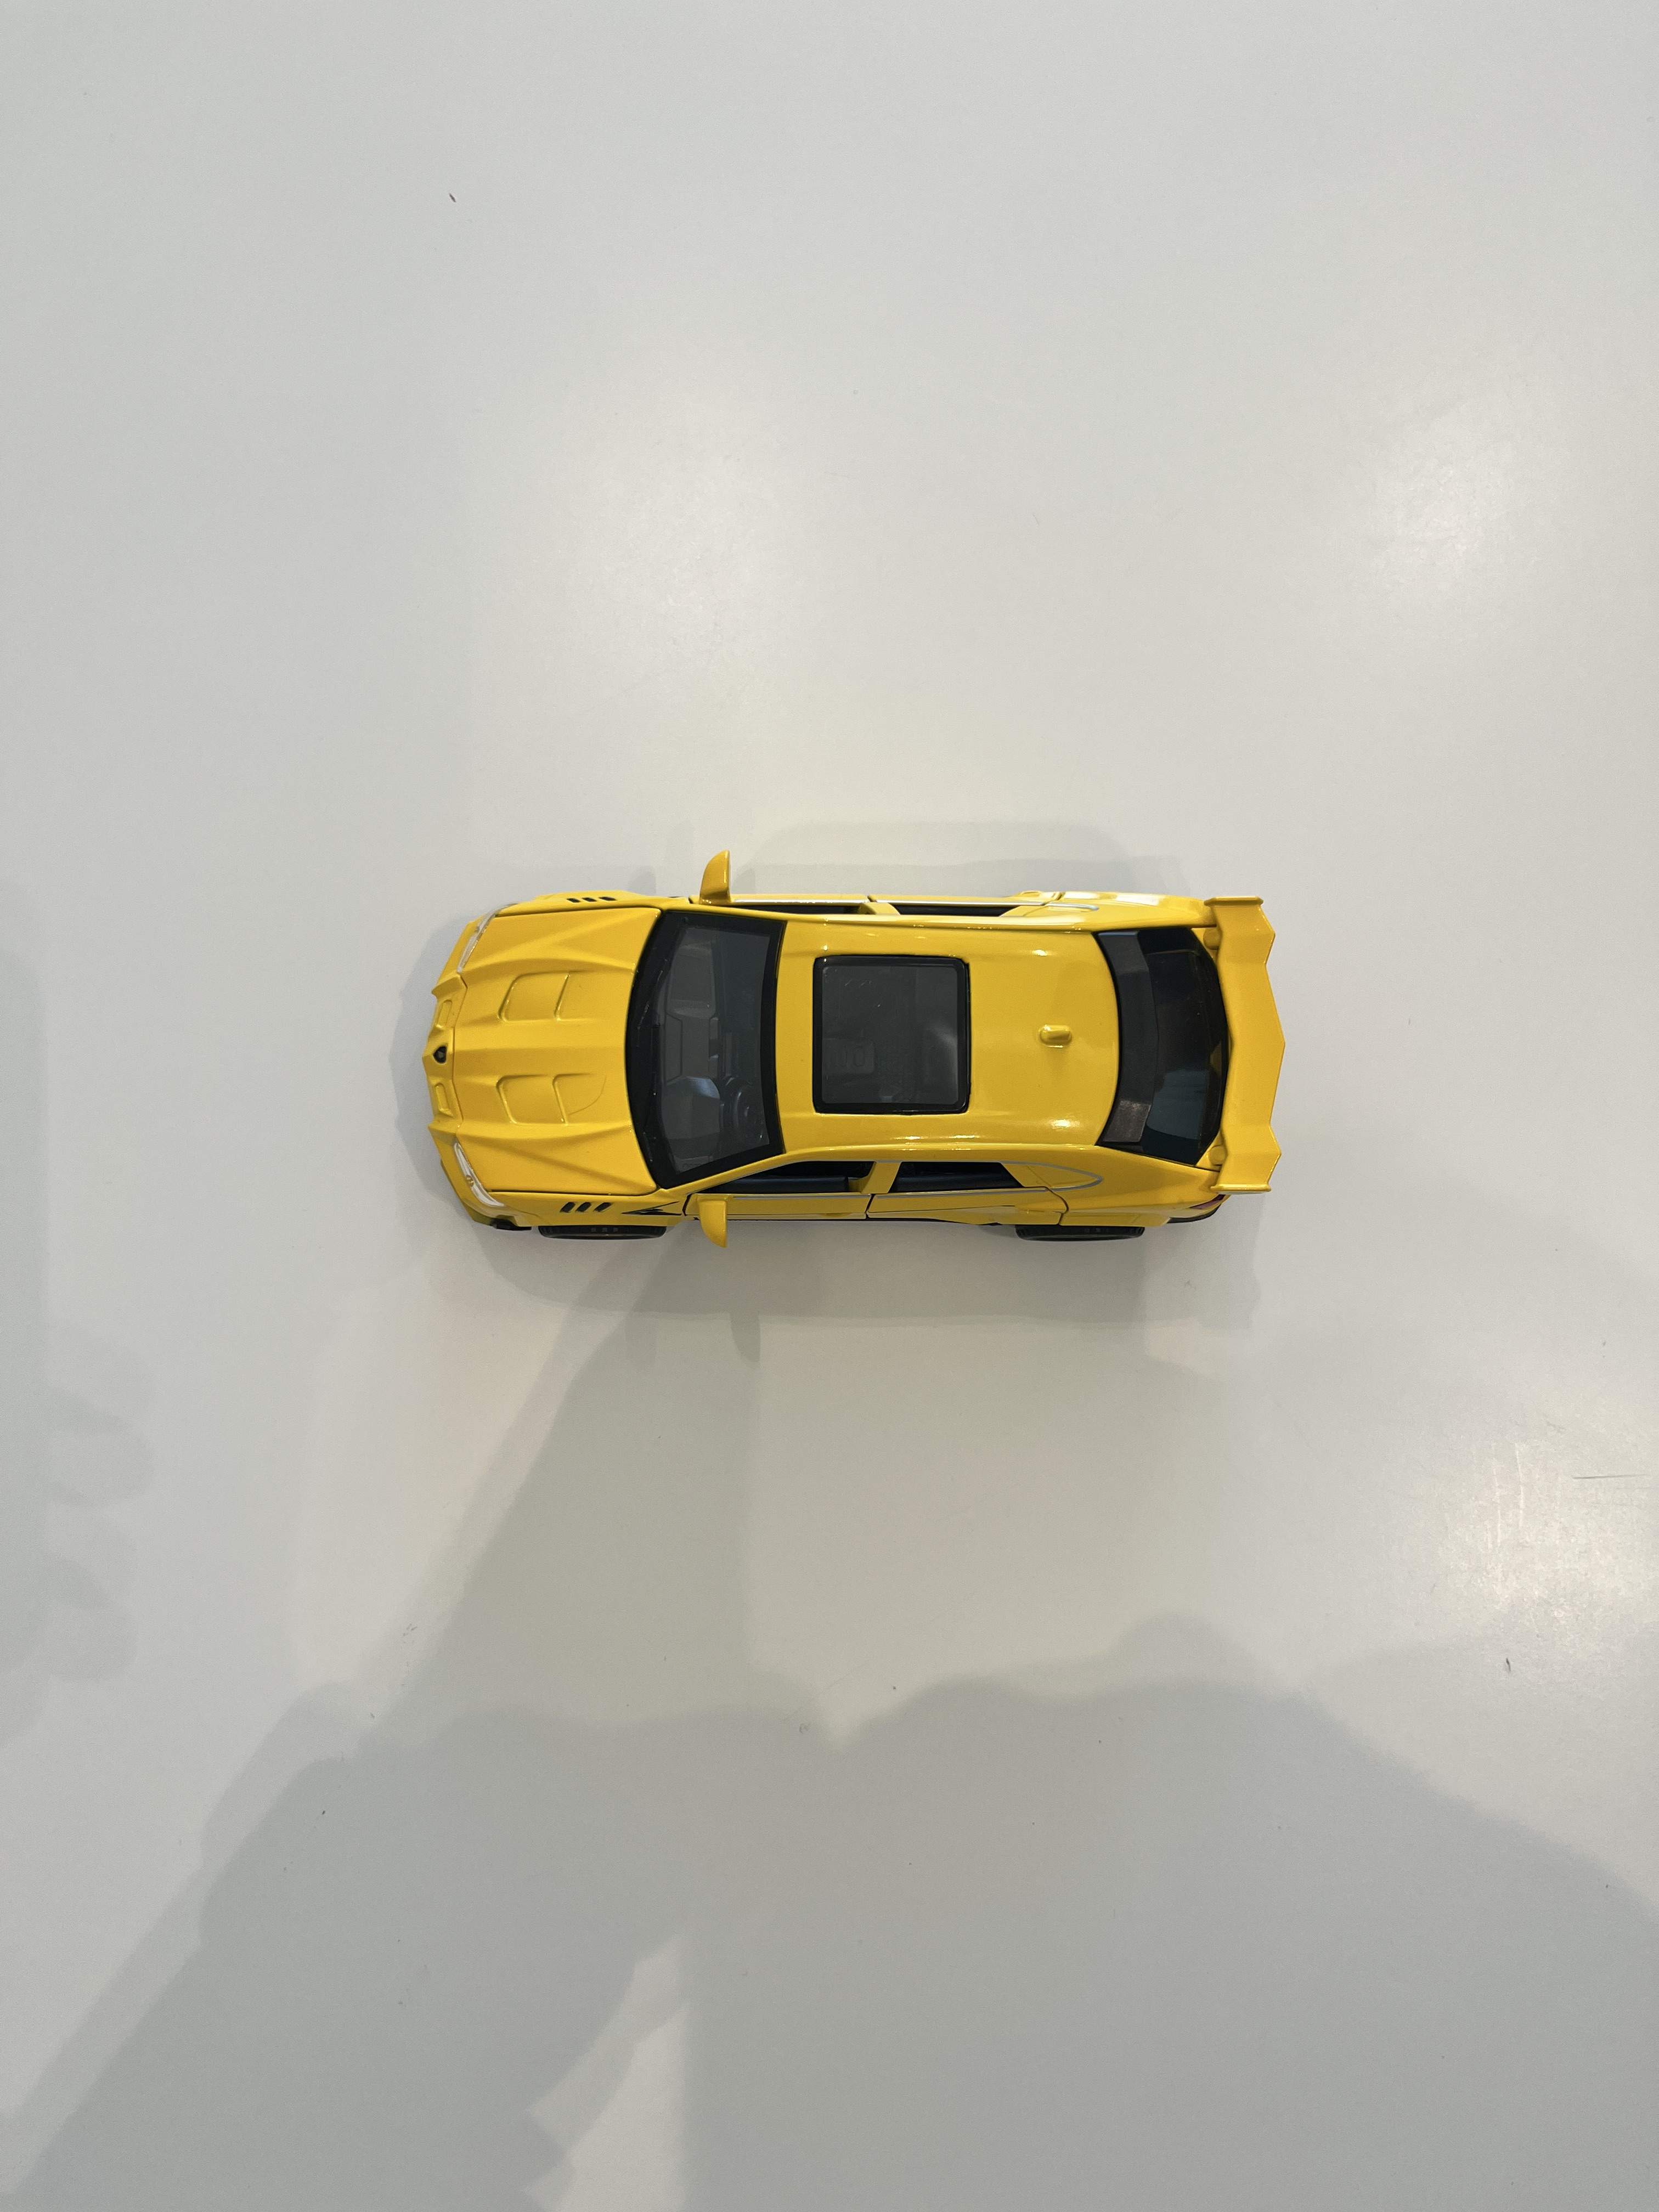lambo: (380, 822, 1302, 1271)
